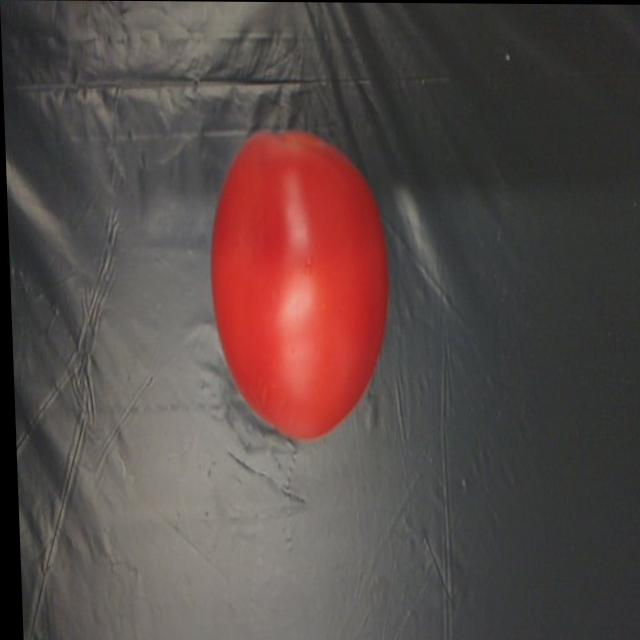kirmizi: (165, 132, 401, 431)
